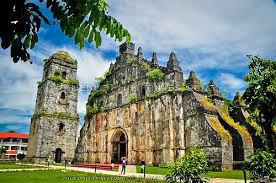paoay_church_paoay_ilocos_norte: (26, 40, 232, 172)
vegetation_damage: (51, 74, 78, 88), (145, 68, 166, 82), (85, 100, 99, 118)
